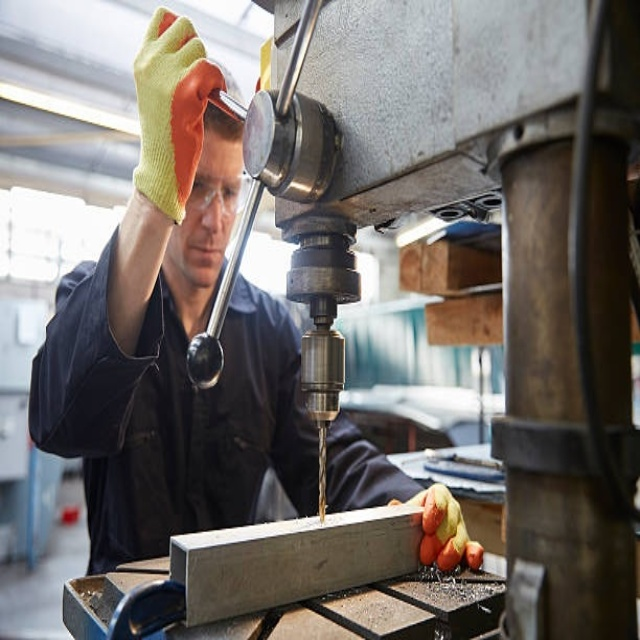Gafas: (187, 169, 250, 219)
Guantes: (131, 7, 222, 225), (392, 483, 484, 572)
Sin_mascara: (188, 242, 223, 260)
